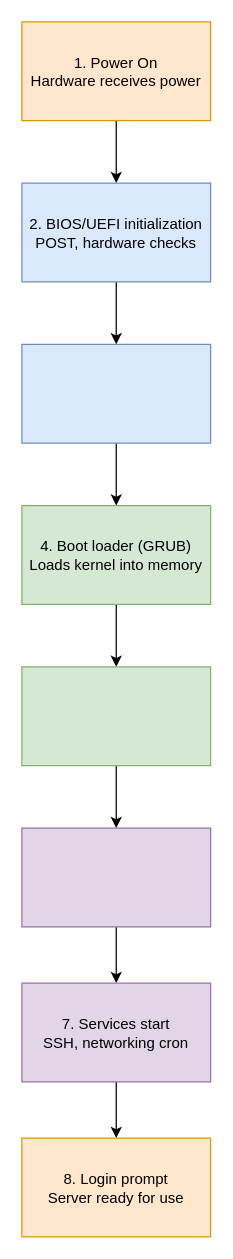
The diagram is 233 pixels wide and 1259 high, and some of its shapes have lost their labels. Here are the shapes that lost their labels. From the top down, the centre of each, then its label:
(x=116, y=393): 3. Boot device detection Locates bootable disk
(x=116, y=716): 5. Linux kernel Initializes hardware drivers
(x=116, y=877): 6. init/systemd First process, mounts filesystems
